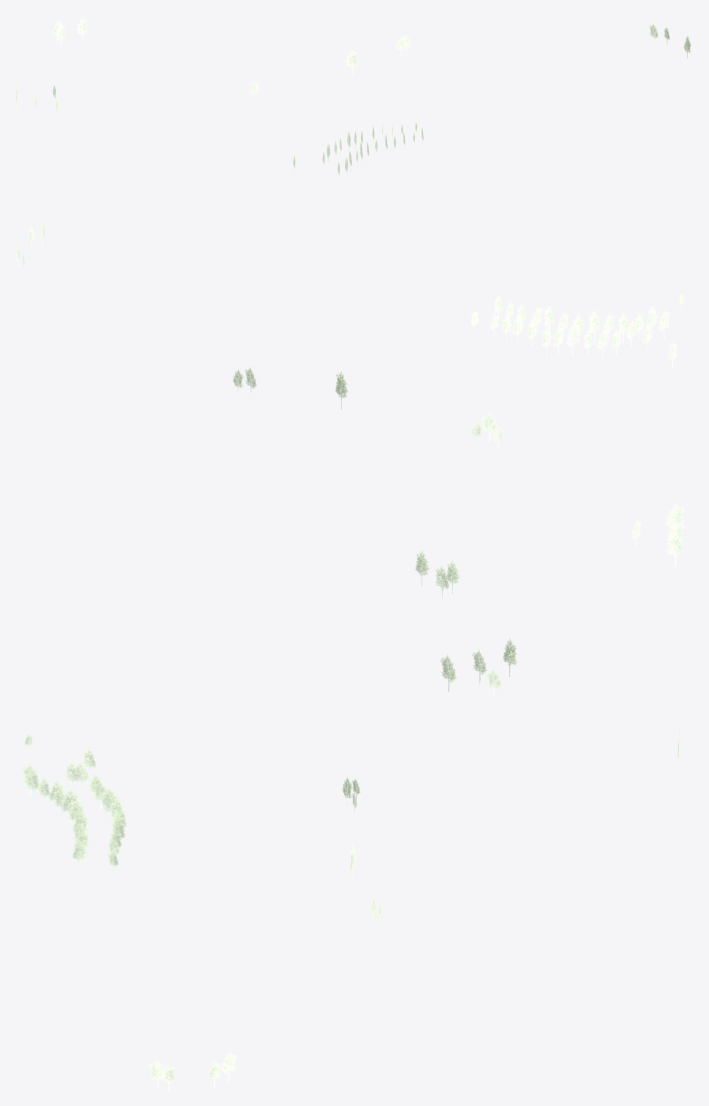
The model's file is ArvoresDistantes.glb.
The picture shows the model from 3 angles, top to bottom: view 1: azimuth 30°, elevation 25°; view 2: azimuth 150°, elevation 25°; view 3: azimuth 270°, elevation 25°; orthographic projection. The views are drawn at different scales.
Size of the model in its own units: 211 by 14.35 by 143.
Materials: 1 (1 with a texture image).
